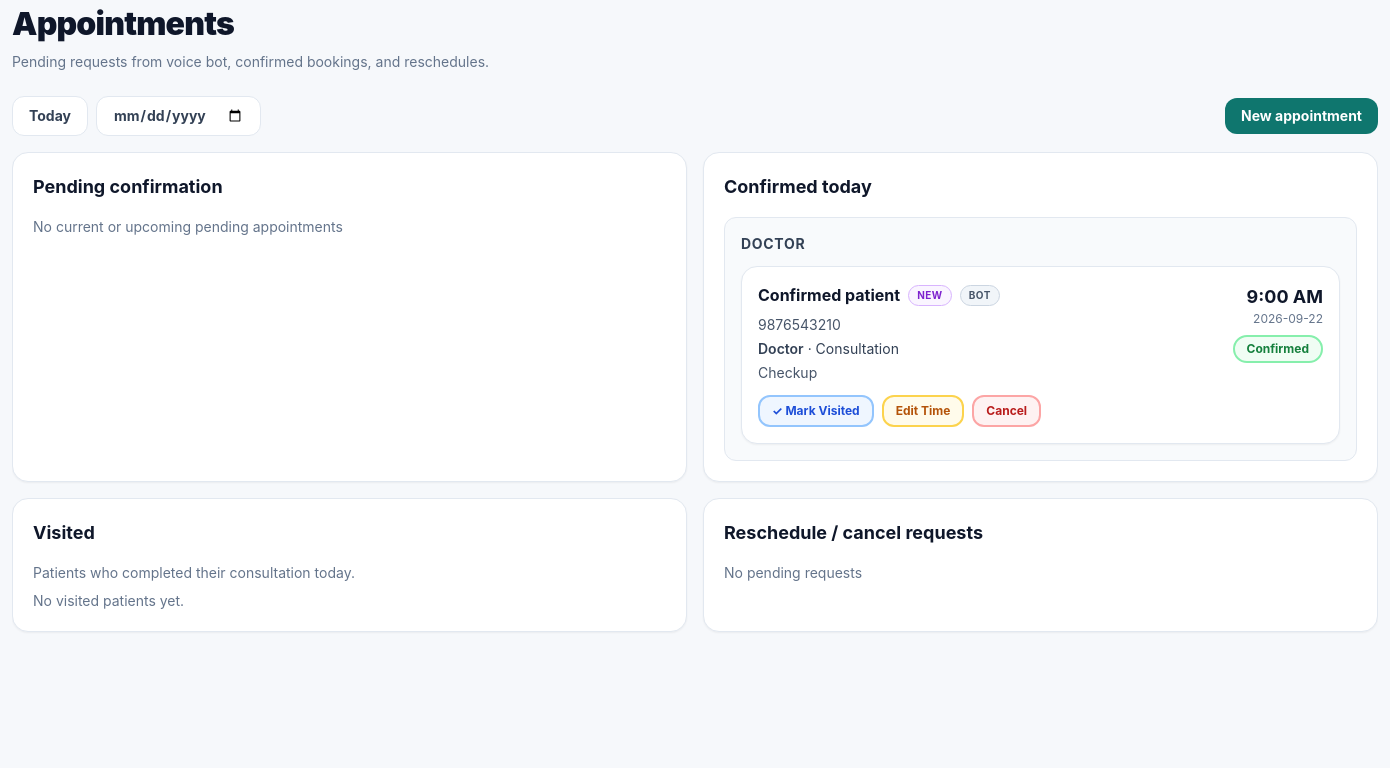
Test: AppointmentsPageContent › looks up a free slot and saves an edited confirmed appointment time
The image size is (1390, 768).
expect the heading "Confirmed patient" is shown: met, box [758,283,900,307]
Click the button "Edit Time".
click(923, 411)  # box [882,395,964,427]
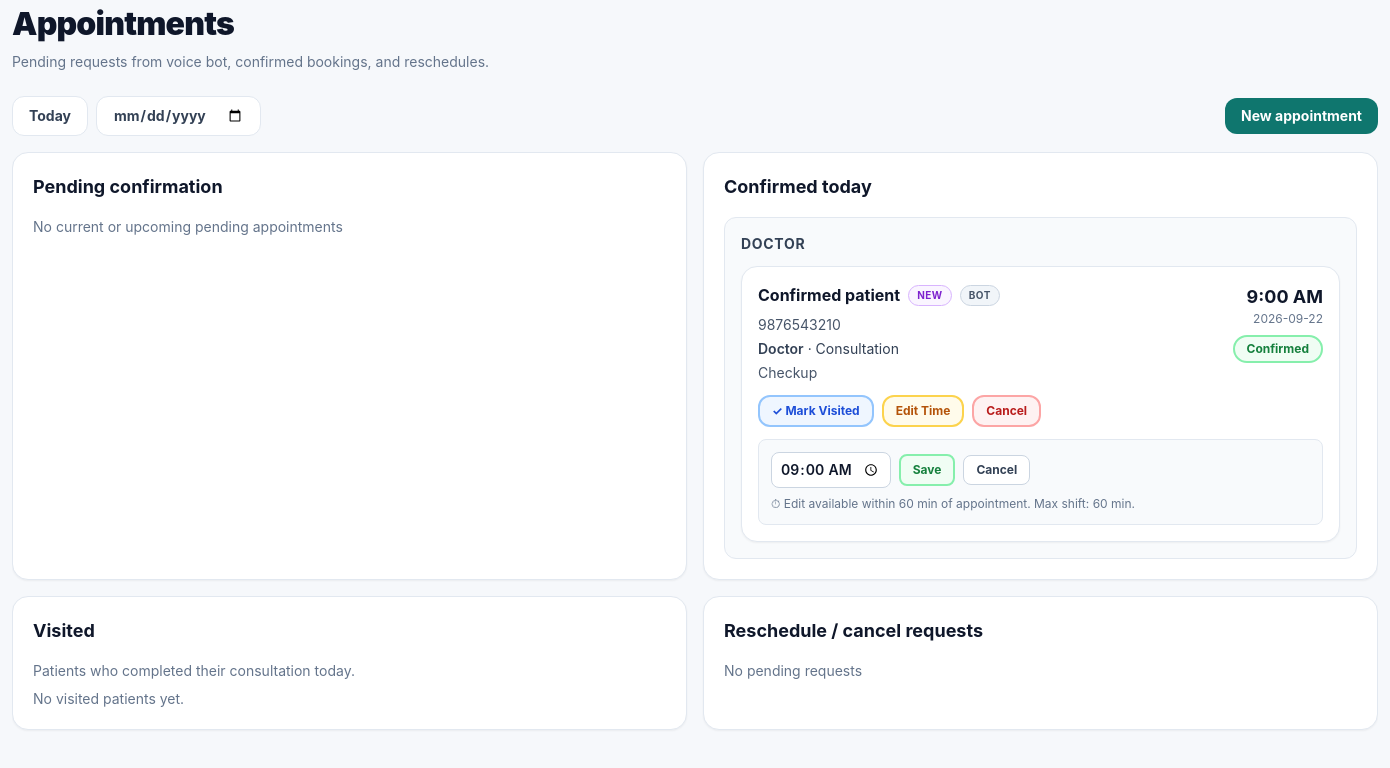
Replace the text in the time field showing "09:00" with "10:00" at (831, 470), box [771,452,891,488]
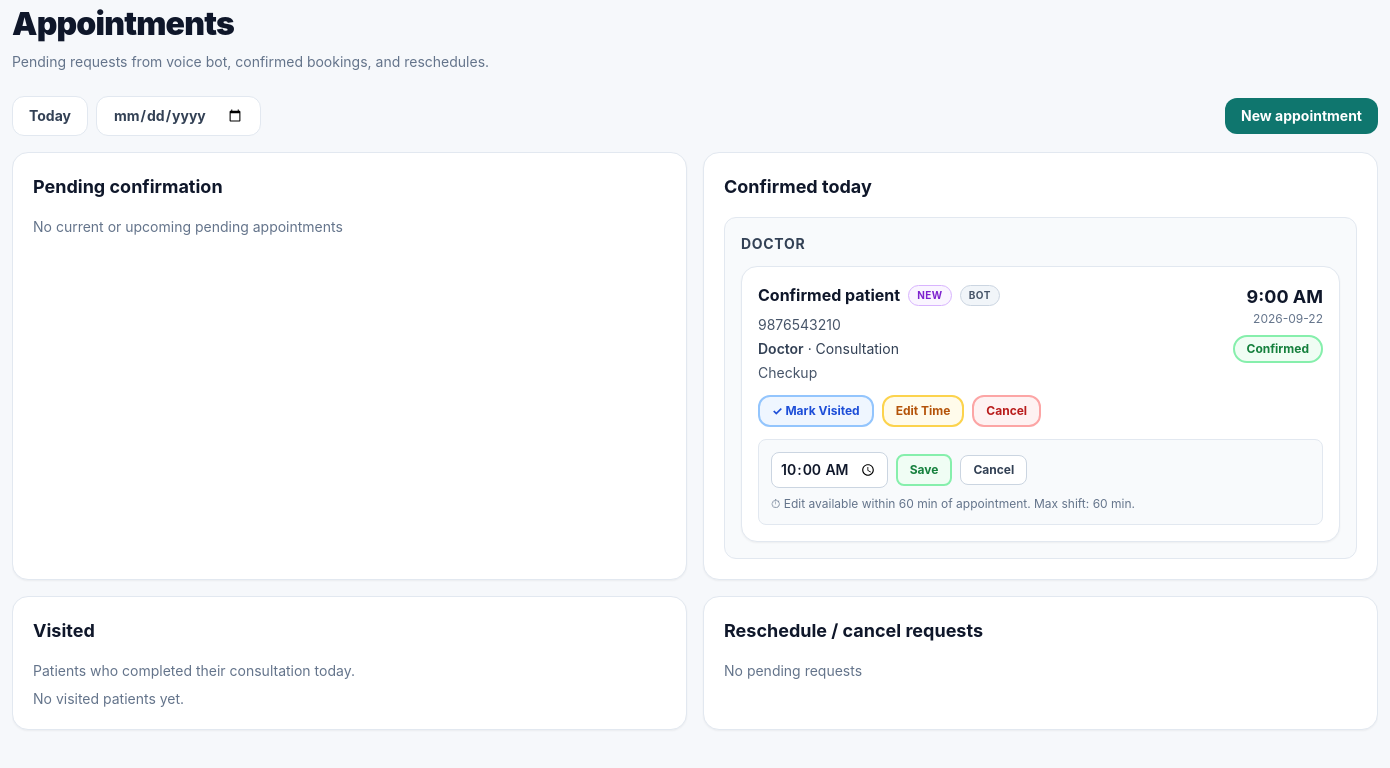
Click the button "Save".
click(924, 470)  # box [896,454,952,486]
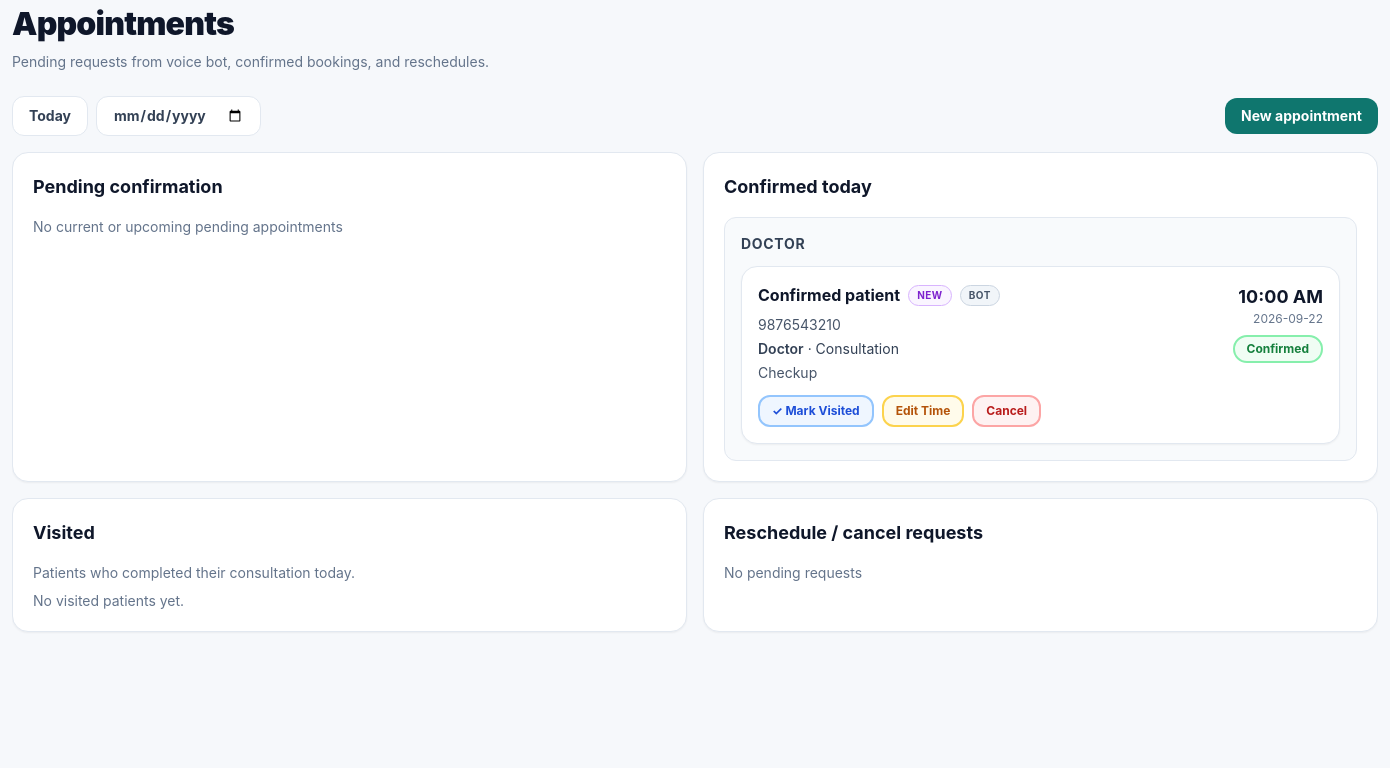
expect the text "10:00 AM" is shown: met, box [1238,283,1323,311]
